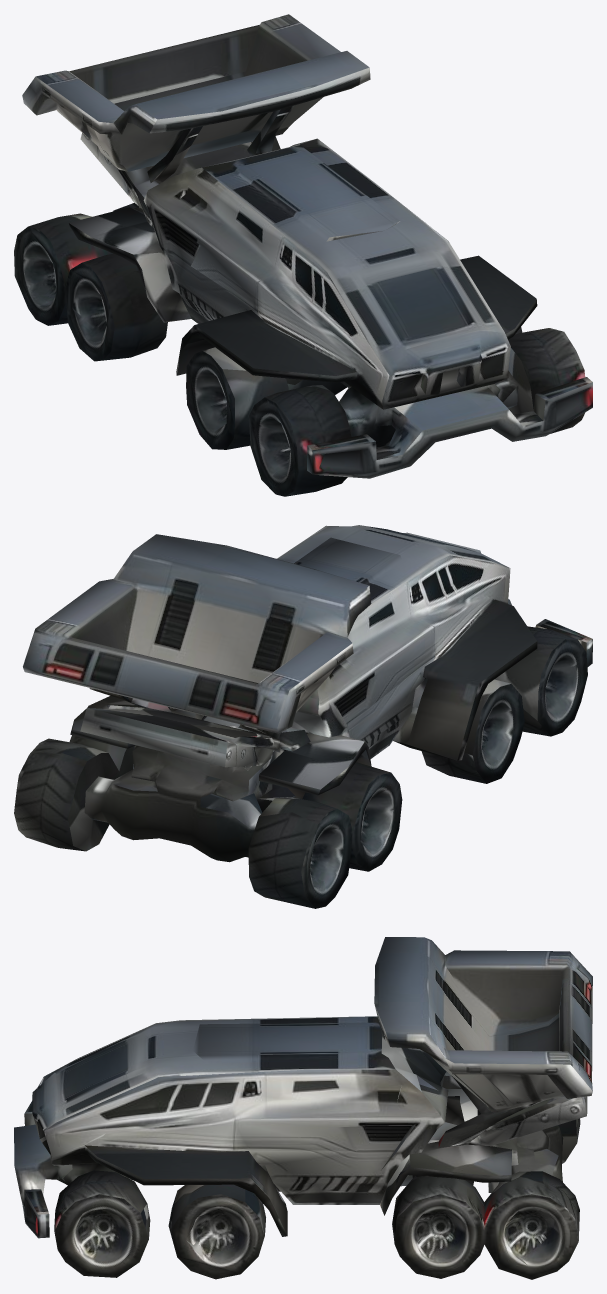
The model's file is vehicle_truck.glb.
3 views of the same model, one above another, from view 1: azimuth 30°, elevation 25°; view 2: azimuth 150°, elevation 25°; view 3: azimuth 270°, elevation 25° (orthographic). The views are drawn at different scales.
Parts seen in each view (by area): view 1: DumpTruck; view 2: DumpTruck; view 3: DumpTruck.
Boxes of the visible parts, x1=… form: DumpTruck: x1=14, y1=14, x2=592, y2=496; DumpTruck: x1=14, y1=525, x2=592, y2=908; DumpTruck: x1=14, y1=937, x2=592, y2=1279.
Size of the model in its own units: 10.77 by 9 by 20.29.
1 material, 1 textured.
